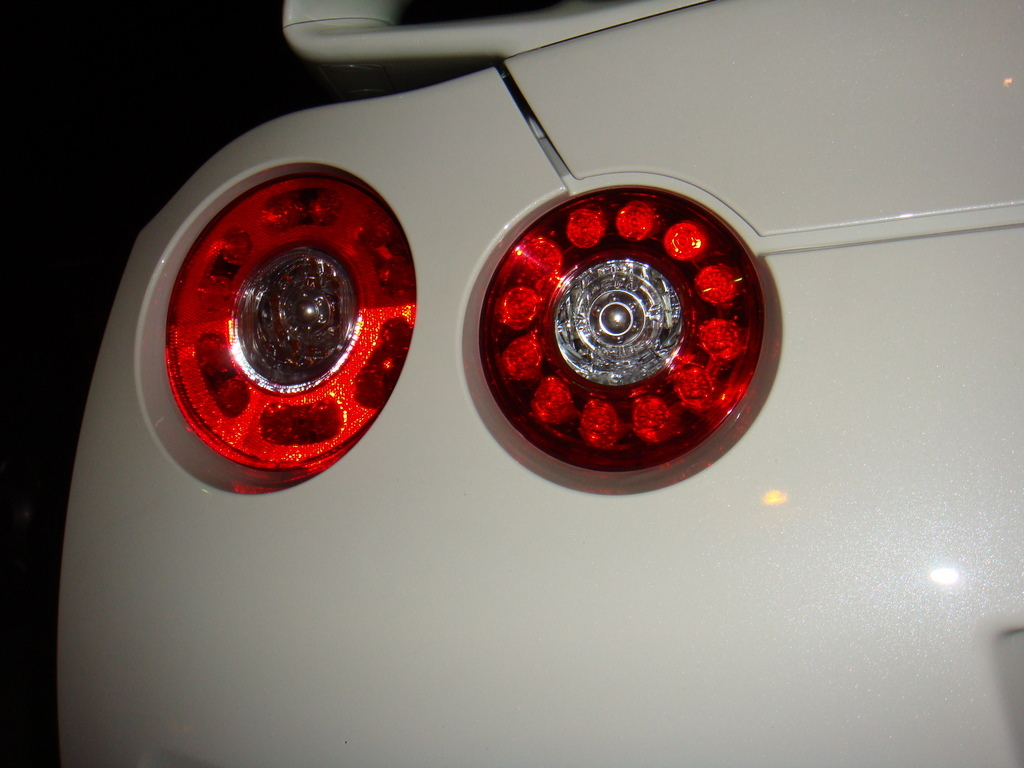Car: (59, 0, 1024, 768)
